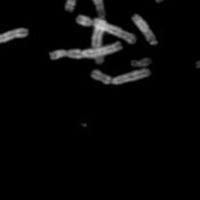chromosome: (75, 15, 135, 42), (90, 68, 150, 85), (0, 27, 28, 55), (80, 41, 123, 59), (133, 14, 157, 45), (90, 18, 105, 63), (49, 49, 81, 59), (85, 0, 104, 15), (131, 58, 152, 67), (64, 0, 81, 11), (197, 30, 200, 70), (151, 0, 164, 2)
